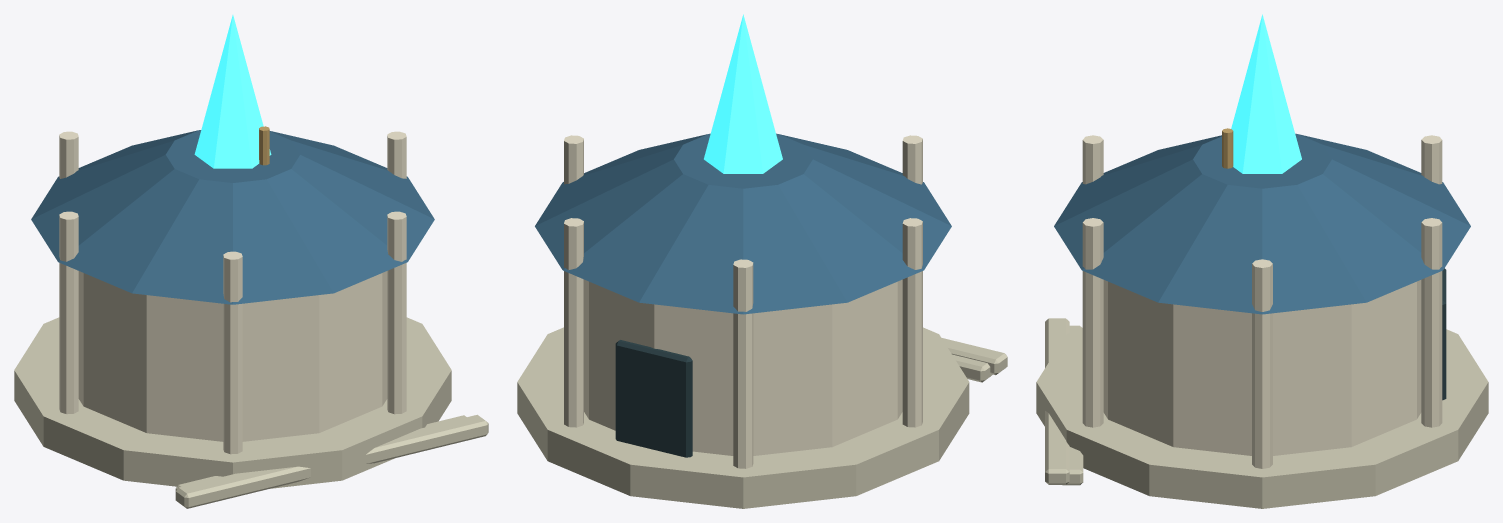
File: level_18.glb
The picture shows the model from 3 angles, left to right: view 1: azimuth 30°, elevation 25°; view 2: azimuth 150°, elevation 25°; view 3: azimuth 270°, elevation 25°; orthographic projection. The views are drawn at different scales.
Parts seen in each view (by area): view 1: mage_guild — level 18; view 2: mage_guild — level 18; view 3: mage_guild — level 18.
Part boxes in pixels (<box>): mage_guild — level 18: <box>14,15,488,508</box>; mage_guild — level 18: <box>517,14,1007,508</box>; mage_guild — level 18: <box>1036,14,1488,508</box>.
Size of the model in its own units: 5.2 by 5.07 by 5.2.
